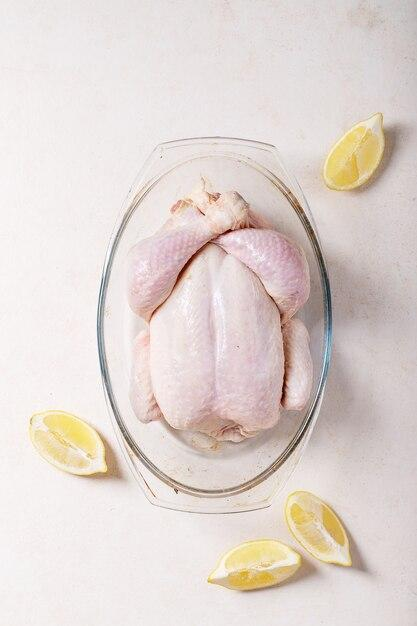chicken: (79, 169, 207, 436)
